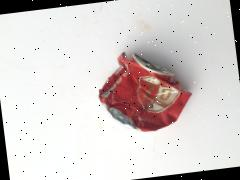metal: (47, 11, 222, 168)
